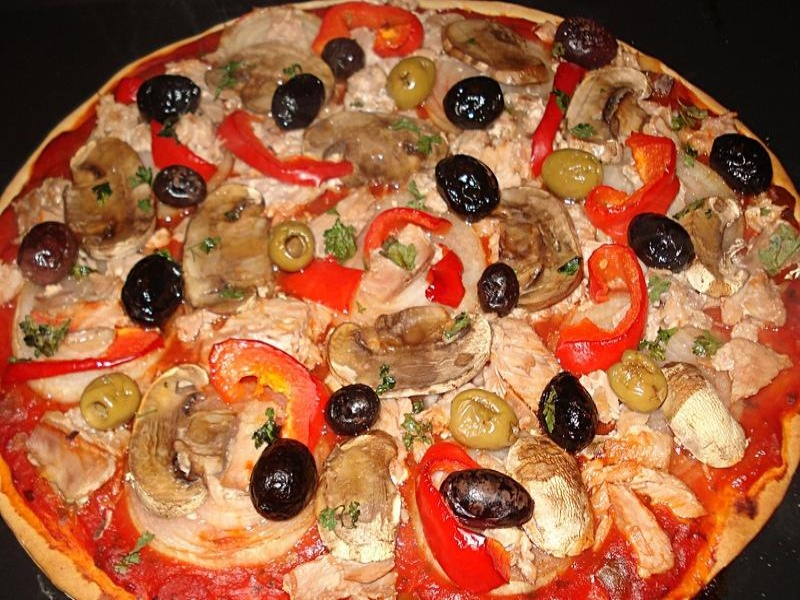champignon: (321, 299, 499, 400), (126, 363, 239, 521), (183, 178, 282, 328), (486, 183, 592, 315), (63, 136, 169, 266), (562, 64, 647, 147)
olive: (430, 465, 550, 534), (245, 435, 324, 526), (113, 253, 195, 331), (533, 365, 600, 459), (442, 386, 531, 456), (433, 151, 511, 228), (622, 211, 705, 282), (14, 218, 93, 292), (71, 373, 155, 442), (600, 346, 673, 417), (439, 71, 517, 137), (703, 131, 777, 200), (546, 13, 628, 75), (129, 72, 212, 131), (532, 146, 612, 206), (380, 51, 450, 116), (265, 73, 336, 133), (320, 383, 386, 439), (148, 162, 217, 215), (474, 260, 529, 320), (264, 220, 321, 277), (314, 34, 370, 85)
